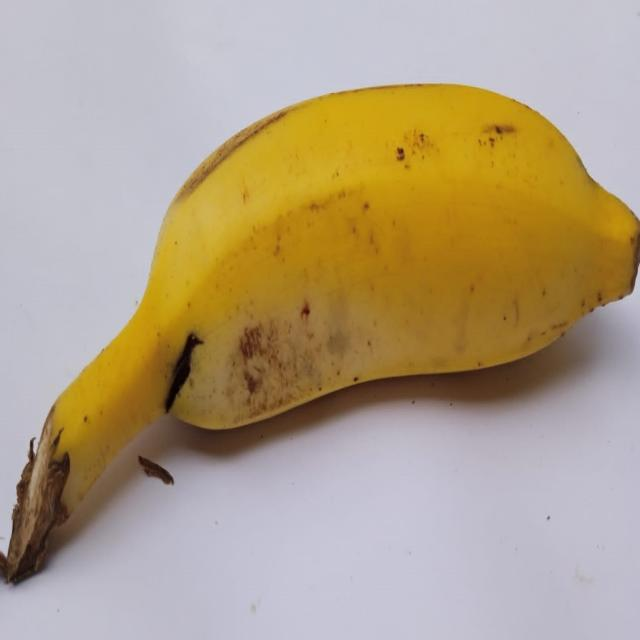banana: (0, 86, 639, 581)
